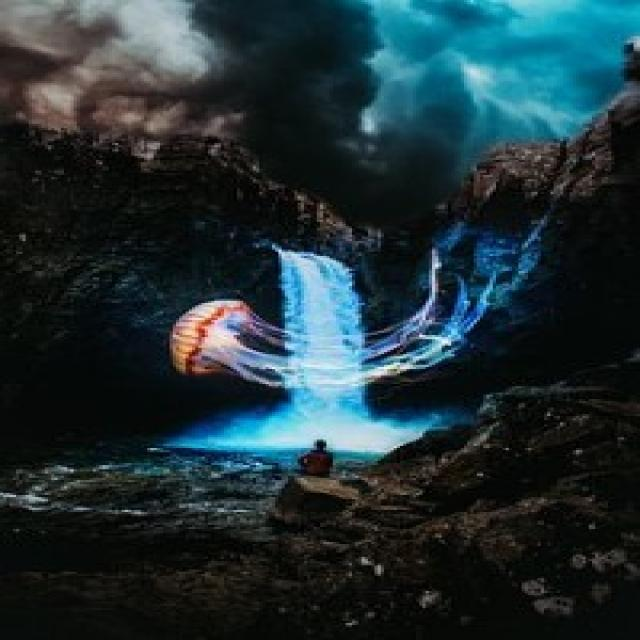Jellyfish: (159, 291, 467, 391)
